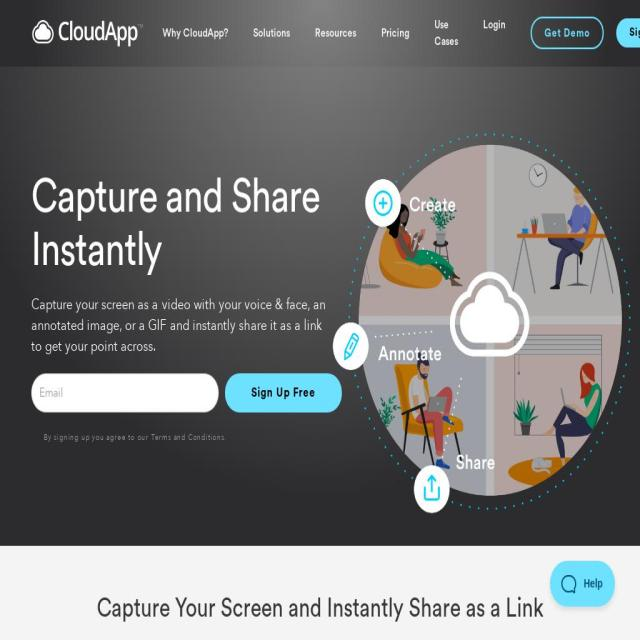button: (25, 0, 150, 67), (150, 8, 241, 58), (302, 8, 368, 58), (240, 8, 302, 58), (530, 16, 604, 49), (616, 18, 640, 48)
field: (31, 372, 219, 412), (225, 372, 342, 412)
heading: (31, 293, 331, 357), (96, 592, 544, 626), (31, 172, 320, 221), (31, 226, 162, 274)
iframe: (550, 561, 615, 607)
image: (330, 133, 630, 530), (31, 19, 144, 48)
link: (151, 431, 227, 443), (434, 17, 458, 50), (483, 17, 506, 50), (382, 25, 409, 42)
text: (44, 431, 151, 443), (163, 25, 228, 42), (315, 25, 356, 42), (253, 25, 290, 42)
